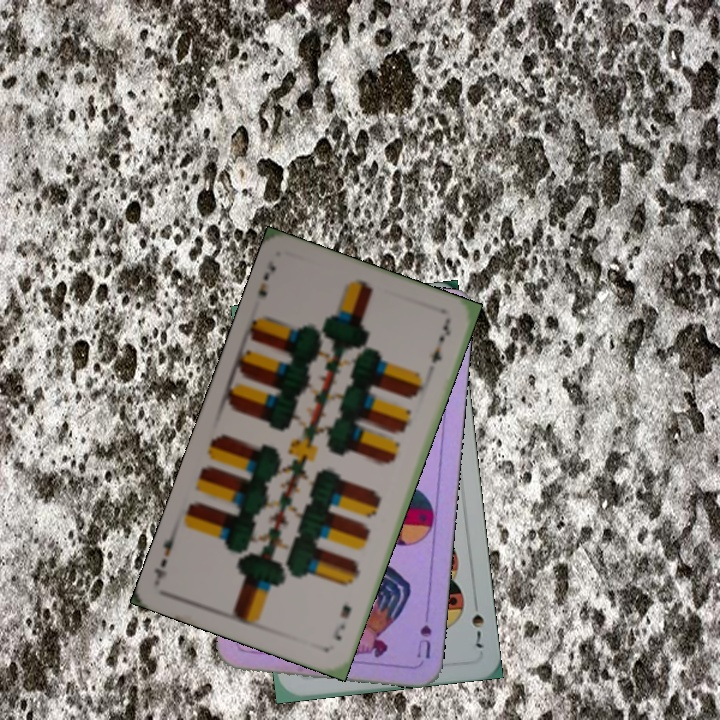E7: (329, 600, 355, 643), (254, 256, 278, 300)
S7: (468, 595, 487, 651)
SU: (413, 603, 434, 661)
